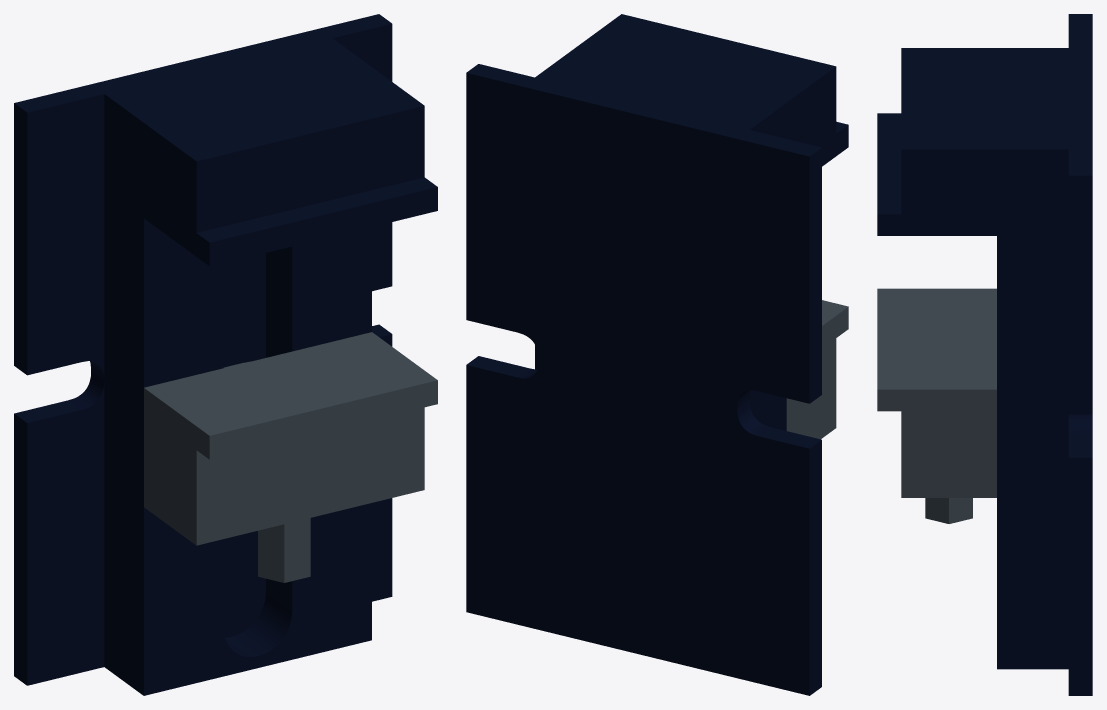
File: VICE 1.fbx
3 renders of one model, left to right at view 1: azimuth 30°, elevation 25°; view 2: azimuth 150°, elevation 25°; view 3: azimuth 270°, elevation 25°, orthographic. The views are drawn at different scales.
Visible parts, largest first — view 1: empty_2, empty_3; view 2: empty_2, empty_3; view 3: empty_2, empty_3.
Boxes of the visible parts, x1,y1,x2,y2 form: empty_2: (14, 14, 437, 695); empty_3: (144, 332, 437, 582); empty_2: (466, 14, 848, 695); empty_3: (786, 300, 848, 439); empty_2: (877, 14, 1092, 695); empty_3: (877, 288, 996, 523).
Bounding box in the file's own units: 80 × 120 × 45.
